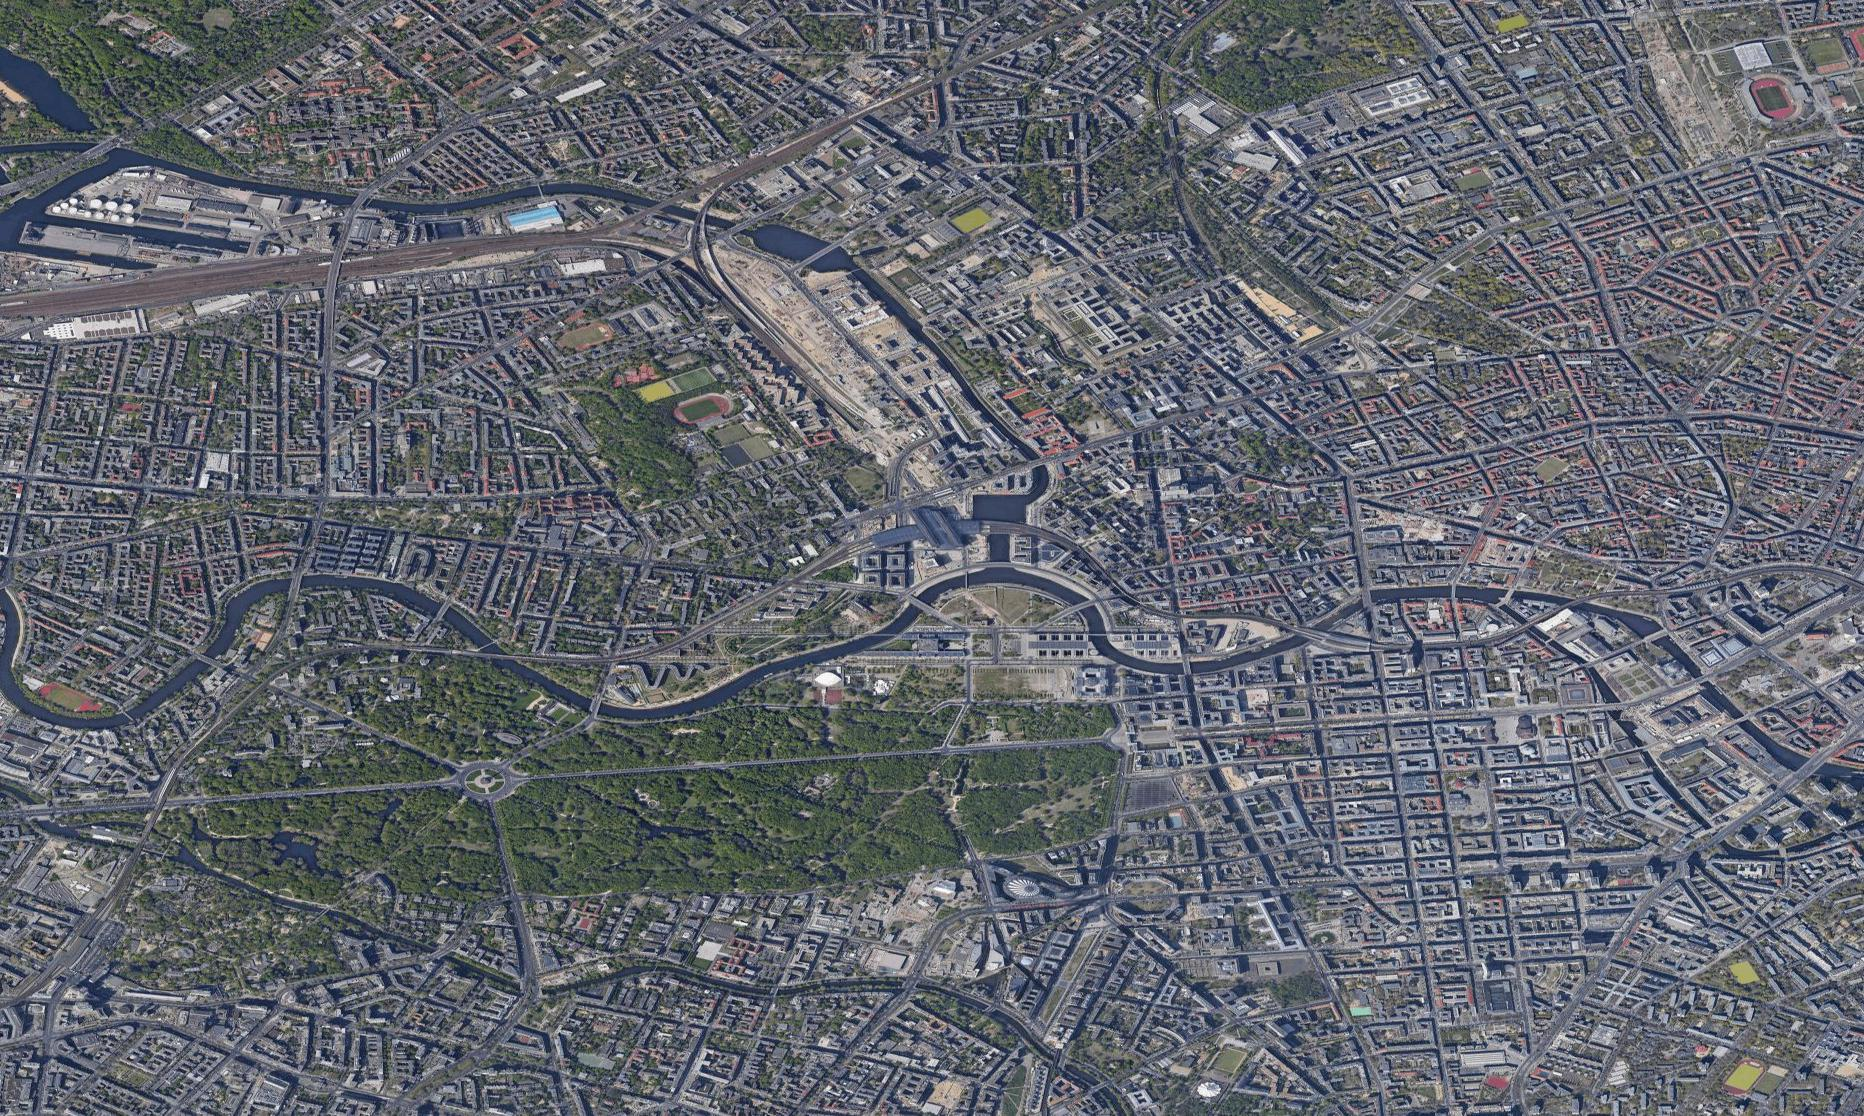bridge: (1788, 756, 1827, 775), (197, 650, 227, 672), (585, 692, 610, 717), (349, 183, 375, 209), (648, 189, 674, 214), (429, 597, 454, 620), (907, 589, 933, 612), (1549, 598, 1586, 614), (286, 573, 310, 597), (1073, 594, 1097, 616), (1629, 630, 1669, 643), (810, 242, 829, 264), (1180, 658, 1198, 679), (1360, 589, 1379, 610), (1499, 585, 1515, 604), (1697, 671, 1709, 688)
industrial: (865, 351, 1024, 488)
train_station: (852, 504, 980, 566)
